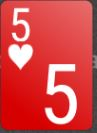Heart: (8, 44, 34, 70)
